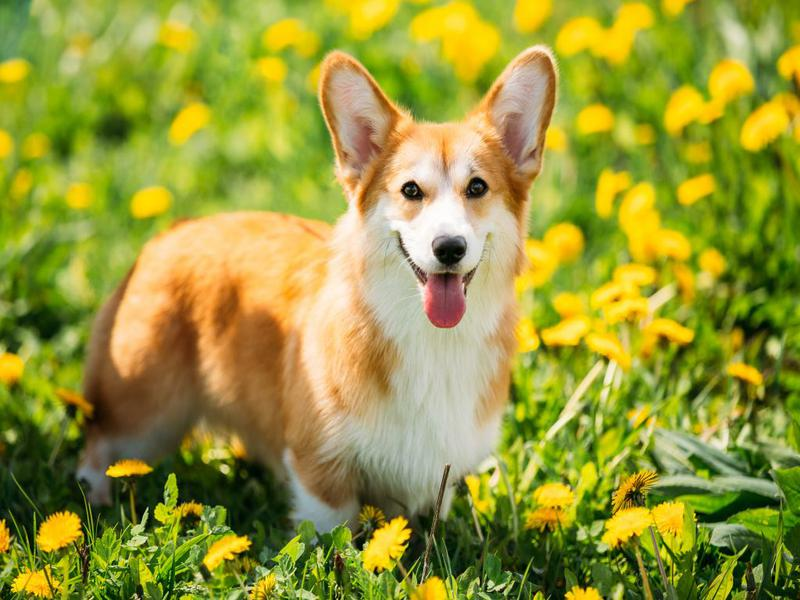corgi: (318, 41, 564, 331)
